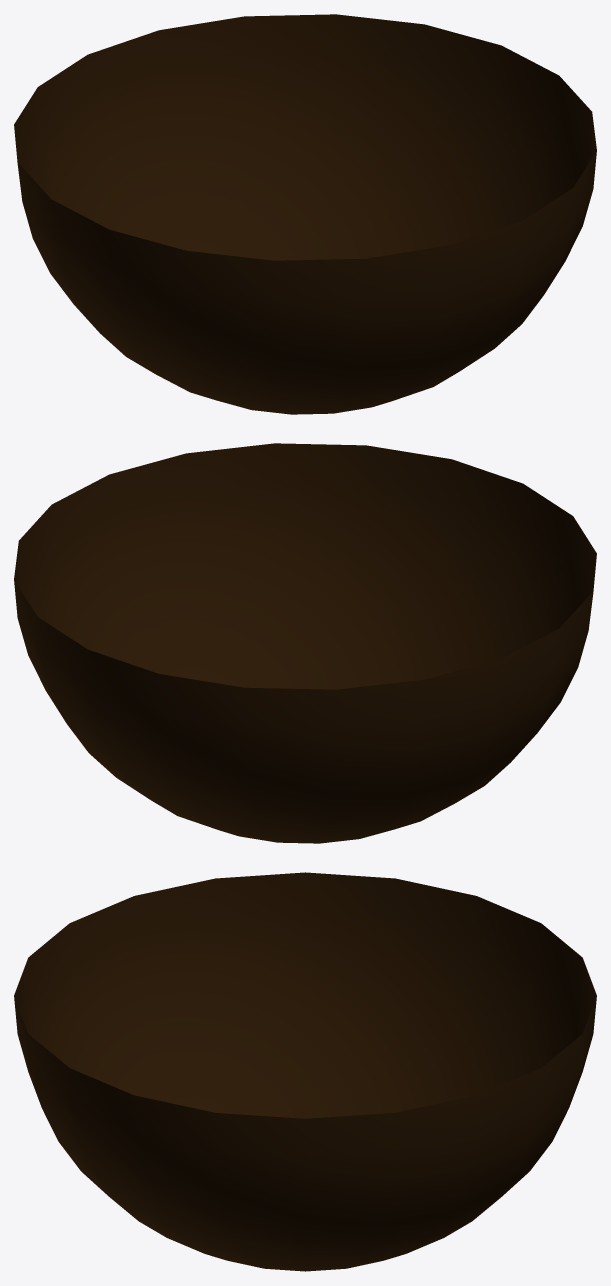
Rendered from Kahve_Fincan_Ic_1.fbx.
3 renders of one model, top to bottom at view 1: azimuth 30°, elevation 25°; view 2: azimuth 150°, elevation 25°; view 3: azimuth 270°, elevation 25°, orthographic.
Parts seen in each view (by area): view 1: pSphere10; view 2: pSphere10; view 3: pSphere10.
Part boxes in pixels (<box>): pSphere10: <box>14,14,596,414</box>; pSphere10: <box>14,443,596,843</box>; pSphere10: <box>14,872,596,1271</box>.
Size of the model in its own units: 8.73 by 4.08 by 8.73.
